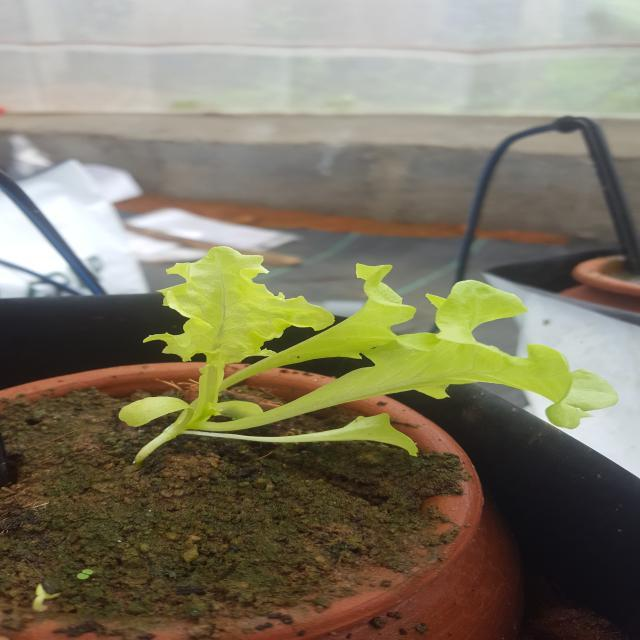Lettuce-Not-Ready-to-Harvest: (113, 247, 619, 480)
